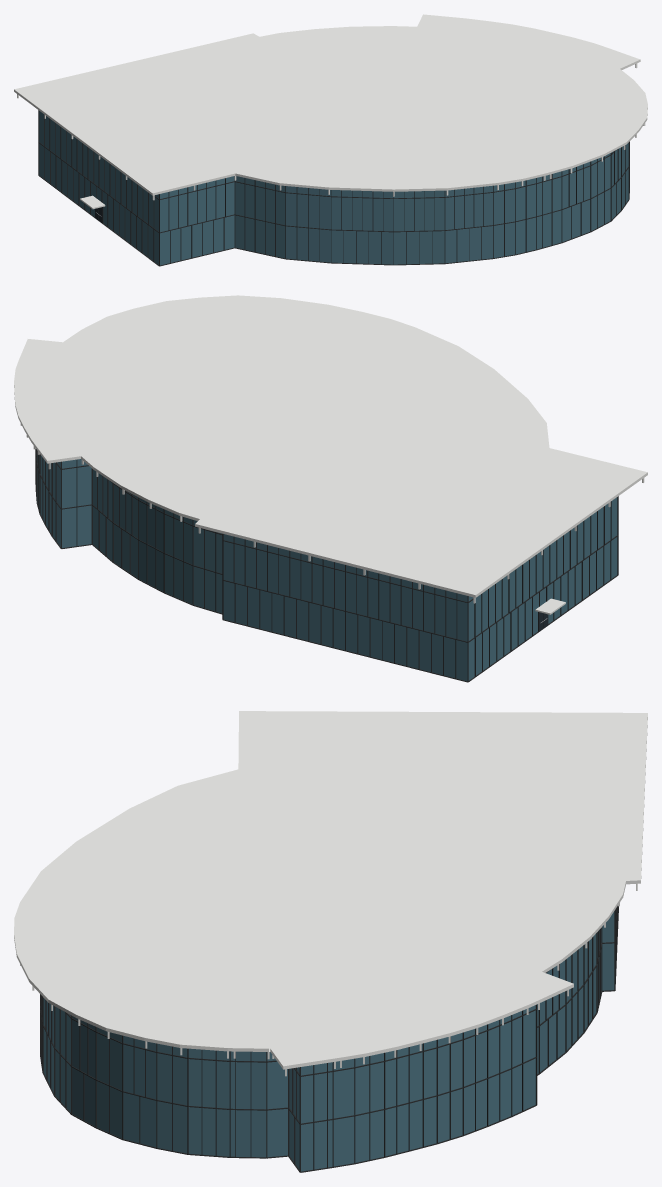
File: dining_hall_west.glb
3 renders of one model, top to bottom at view 1: azimuth 30°, elevation 25°; view 2: azimuth 150°, elevation 25°; view 3: azimuth 270°, elevation 25°, orthographic. The views are drawn at different scales.
Parts seen in each view (by area): view 1: dining_hall_west_Trim_White, dining_hall_west_Glass_teal, dining_hall_west_Frame_Dark; view 2: dining_hall_west_Trim_White, dining_hall_west_Glass_teal, dining_hall_west_Frame_Dark; view 3: dining_hall_west_Trim_White, dining_hall_west_Glass_teal, dining_hall_west_Frame_Dark.
Part boxes in pixels (bbox=[...]): dining_hall_west_Trim_White: bbox=[14, 14, 647, 209]; dining_hall_west_Glass_teal: bbox=[39, 111, 628, 265]; dining_hall_west_Frame_Dark: bbox=[38, 110, 629, 266]; dining_hall_west_Trim_White: bbox=[14, 295, 647, 614]; dining_hall_west_Glass_teal: bbox=[37, 455, 617, 681]; dining_hall_west_Frame_Dark: bbox=[35, 448, 618, 682]; dining_hall_west_Trim_White: bbox=[14, 711, 647, 1076]; dining_hall_west_Glass_teal: bbox=[43, 911, 614, 1171]; dining_hall_west_Frame_Dark: bbox=[40, 906, 618, 1172].
Bounding box in the file's own units: 79.41 × 12.59 × 59.88.
